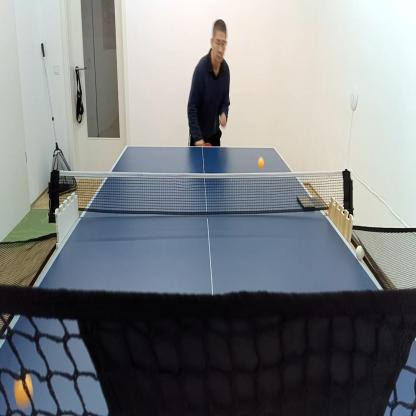Ball: (14, 369, 35, 410), (354, 244, 366, 262), (257, 155, 265, 169)
